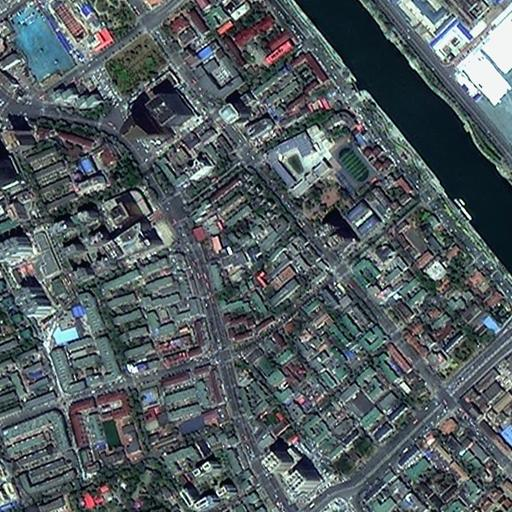school: (259, 130, 382, 204), (392, 213, 443, 272), (96, 408, 141, 468)
